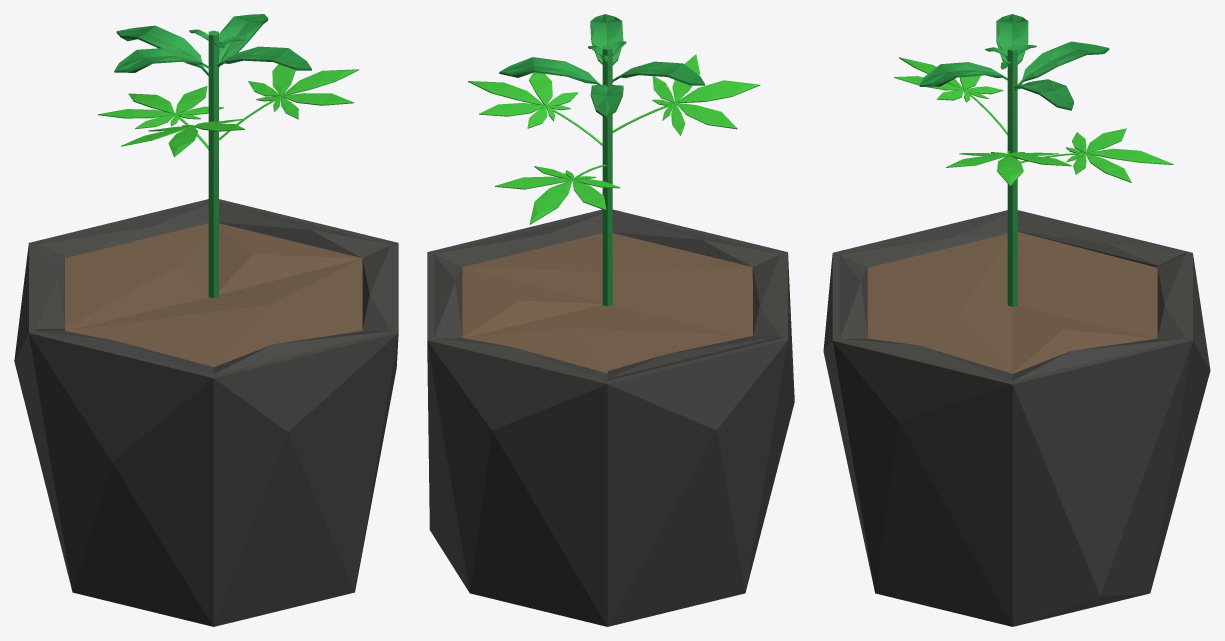
The model's file is objWeedLevel03.fbx.
3 renders of one model, left to right at view 1: azimuth 30°, elevation 25°; view 2: azimuth 150°, elevation 25°; view 3: azimuth 270°, elevation 25°, orthographic. The views are drawn at different scales.
Parts seen in each view (by area): view 1: objWeedLevel03; view 2: objWeedLevel03; view 3: objWeedLevel03.
Part boxes in pixels (<box>): objWeedLevel03: <box>14,14,398,626</box>; objWeedLevel03: <box>427,14,794,626</box>; objWeedLevel03: <box>823,14,1210,626</box>.
Size of the model in its own units: 0.2762 by 0.3747 by 0.257.
Materials: 1 (1 with a texture image).
